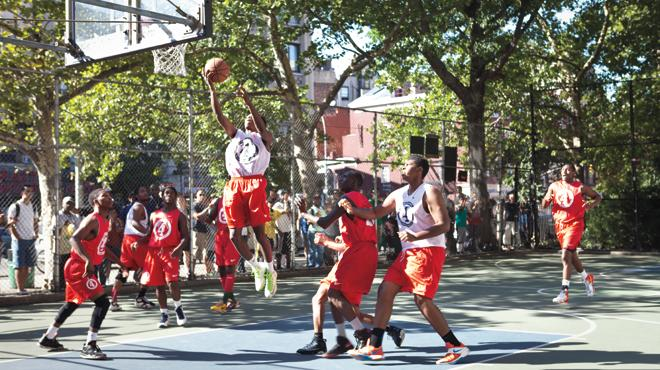basketball: (203, 55, 230, 83)
